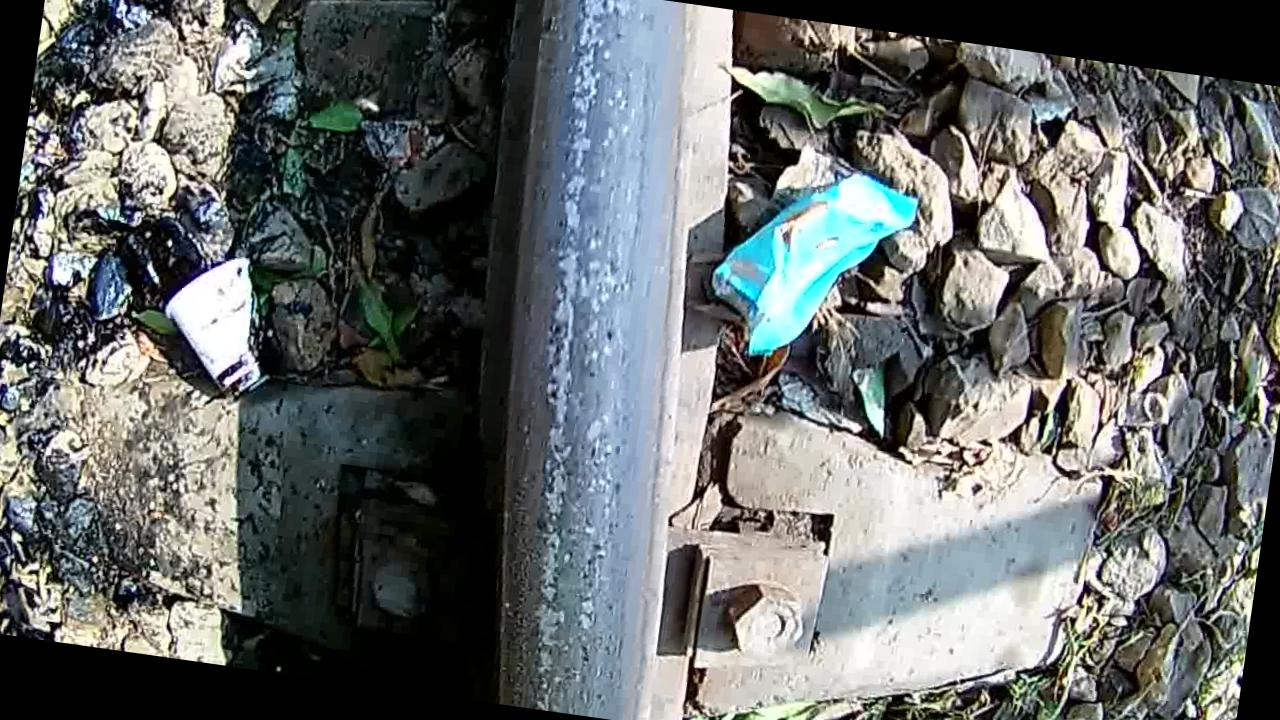clip_missing: (427, 0, 715, 720)
